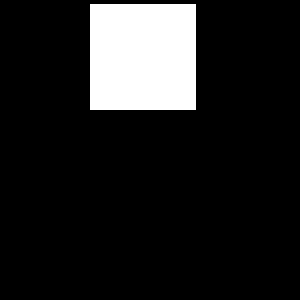circle: (90, 4, 196, 110)
